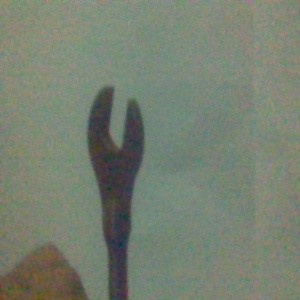spanner: (87, 85, 145, 300)
